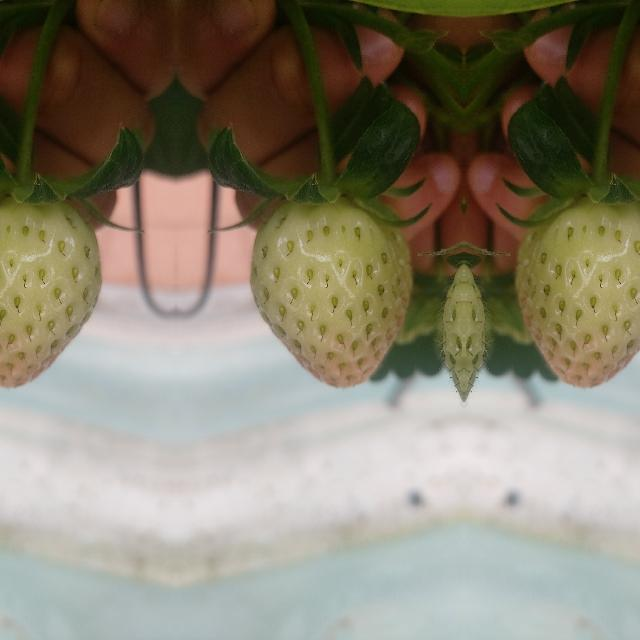Health_50: (249, 199, 411, 387), (515, 199, 640, 387), (0, 199, 101, 387)
